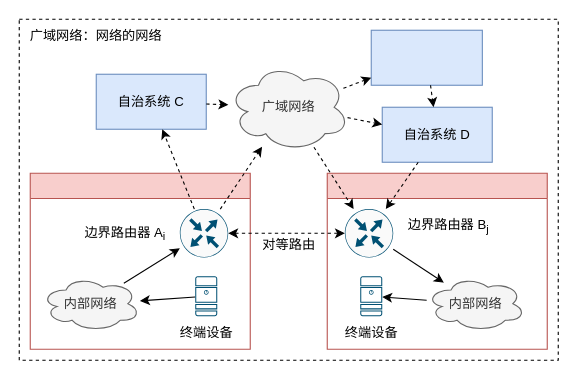
Some shapes in this 578 by 380 pixel diagram are drawn without their labels. The shapes that lost their labels are listed below. From the top down, each one's box as (x1, y1, x2, y2) in pixels, then its label:
(370, 29, 482, 85): 自治系统 E
(29, 172, 250, 349): 自治系统 A
(326, 172, 547, 349): 自治系统 B
